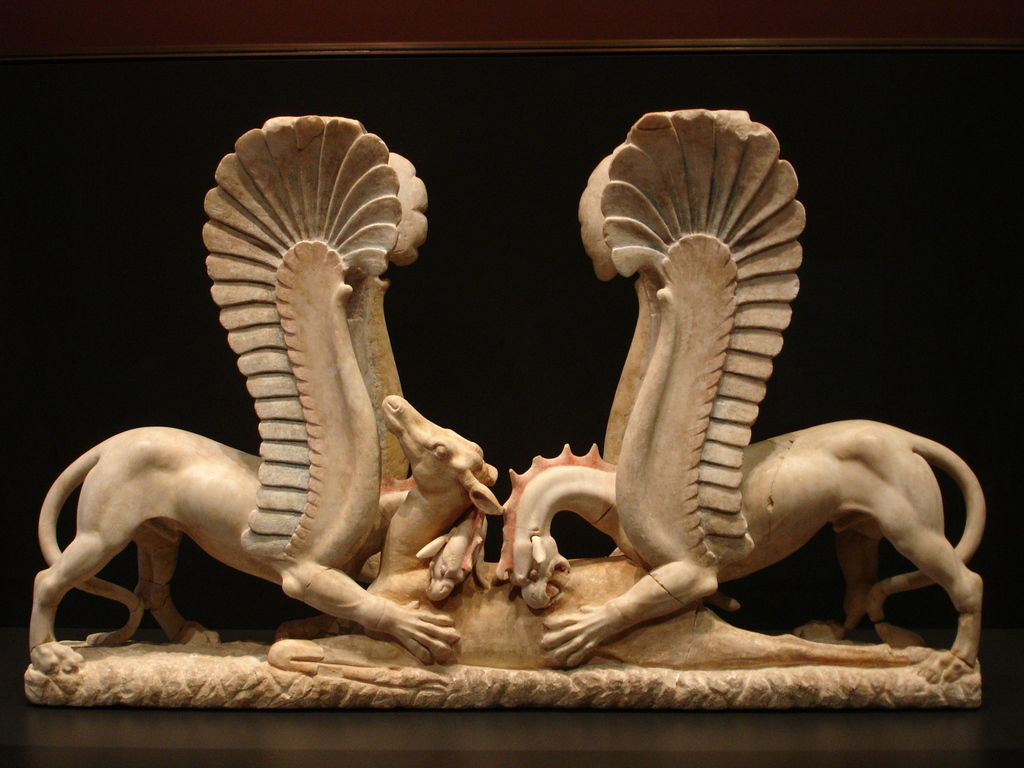Animal: (489, 105, 982, 678), (25, 111, 491, 671), (263, 393, 922, 673)
